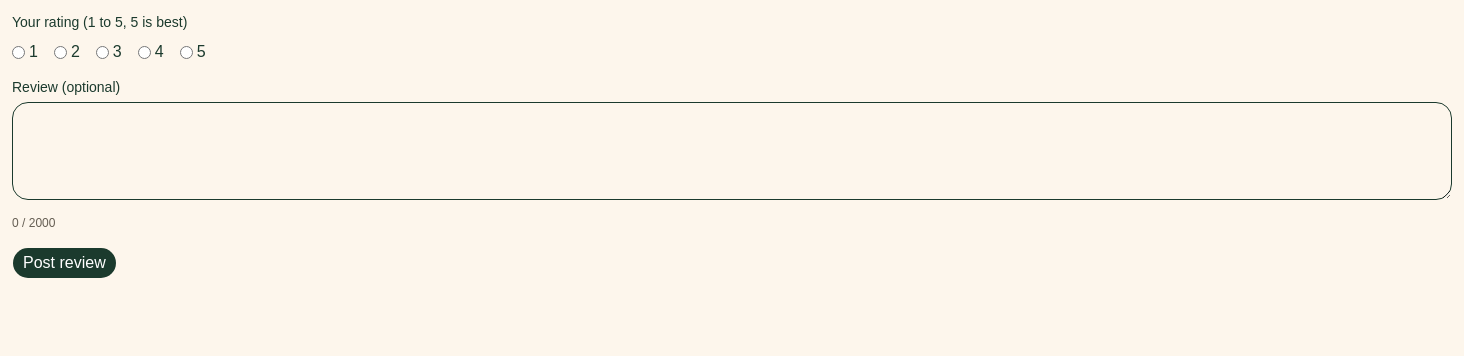
ReviewForm › asks for a rating and sends nothing when none is chosen
Click the button "Post review" at (64, 263), box [12,247,117,279]
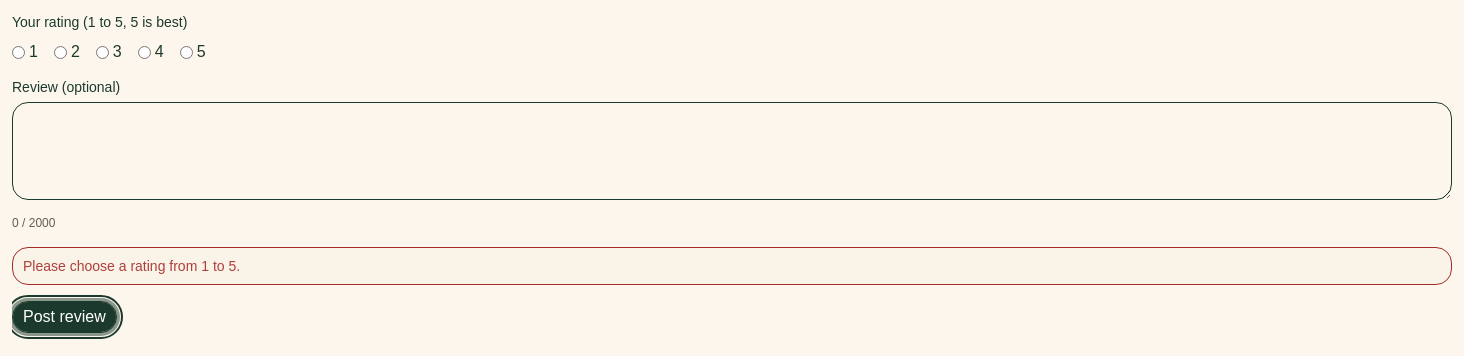
Expected: the text "Please choose a rating from 1 to 5." is shown, [23,258,240,274]
